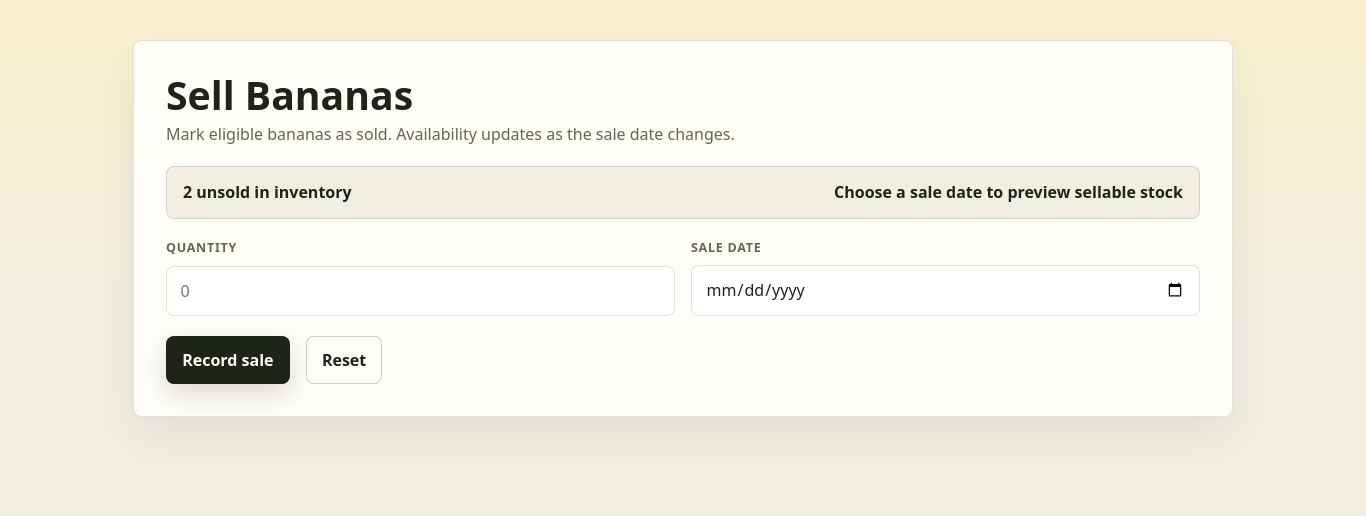
Test case: Sell › surfaces the server error message when the sale is rejected
The width and height of the screenshot is (1366, 516).
Type "2026-03-05" into the date field labelled "Sale date".
click(946, 290); type("2026-03-05")  # box 691,265 -> 1200,316
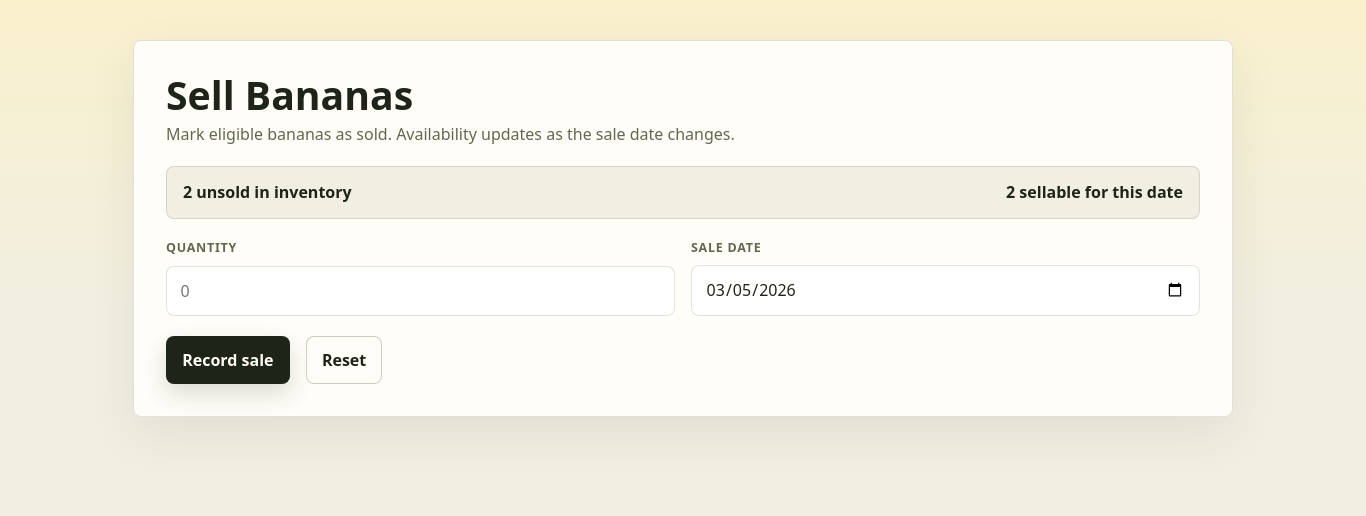
Type "2" into the number field labelled "Quantity".
click(420, 291); type("2")  # box 166,266 -> 675,316
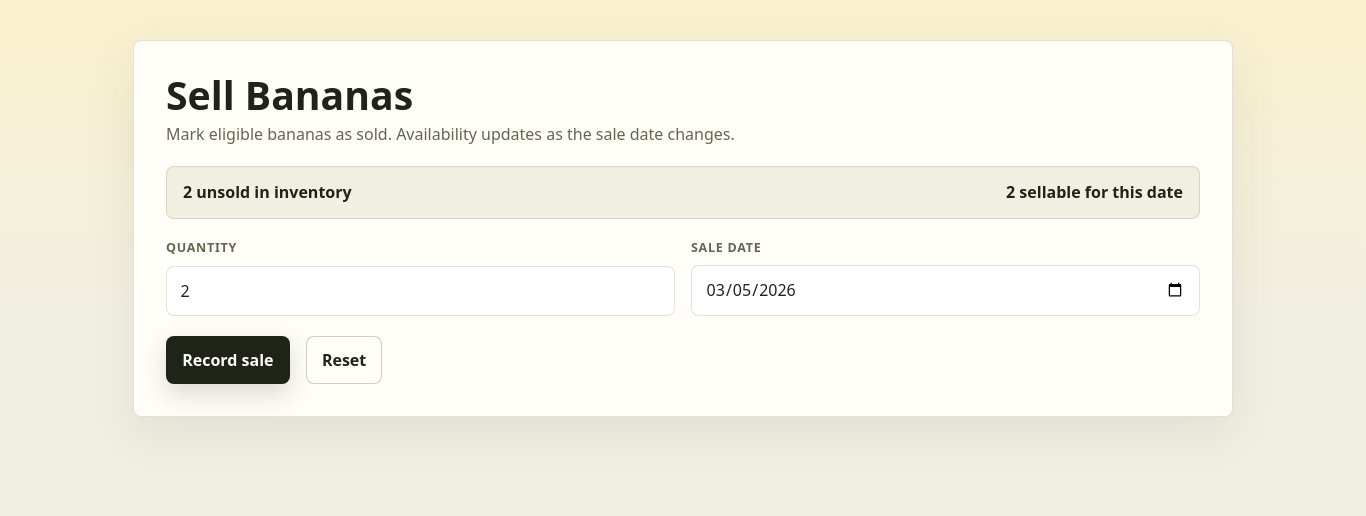
Click the button "Record sale".
click(228, 360)  # box 166,336 -> 290,384
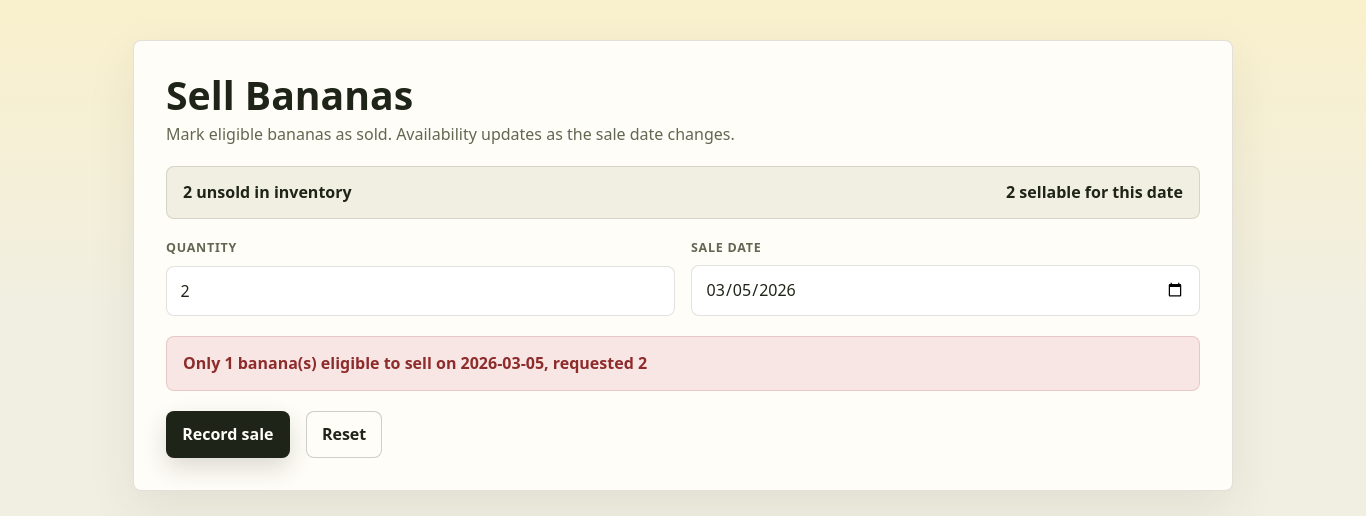
Result: the text "Only 1 banana(s) eligible to sell on 2026-03-05, requested 2" is shown at 166,336 -> 1200,391
